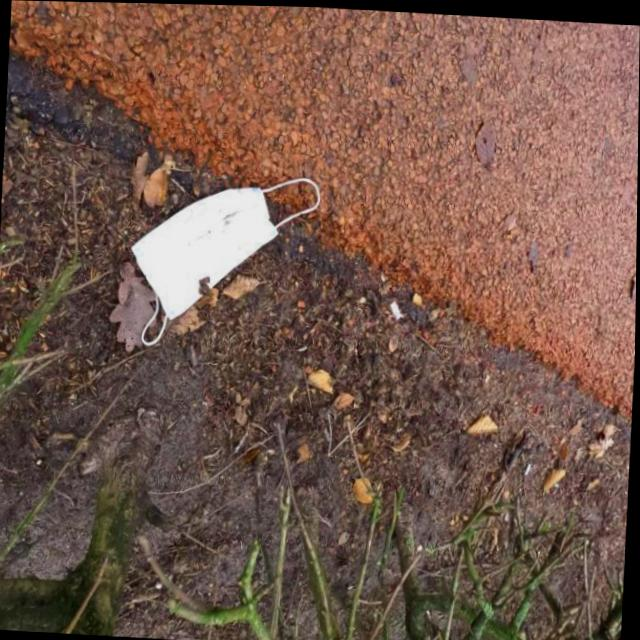Mask: (124, 150, 323, 358)
